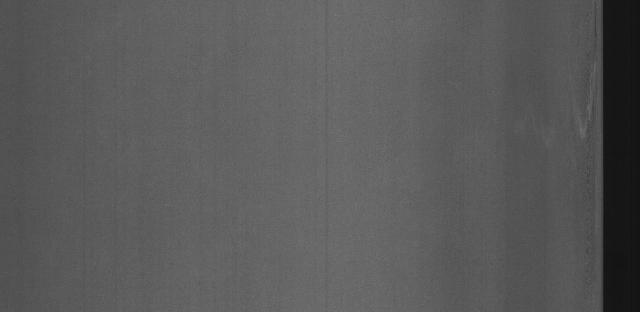silk_spot: (534, 56, 600, 228)
